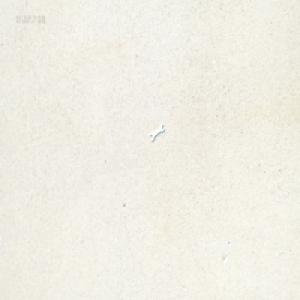Wrench: (149, 123, 165, 141)
